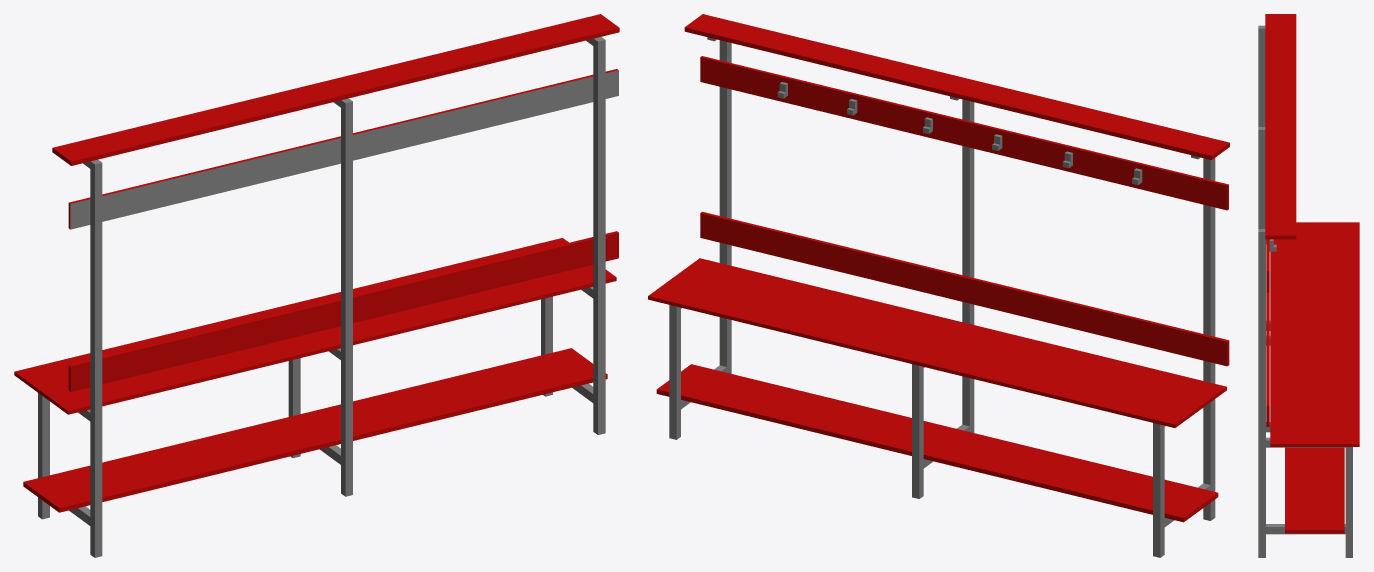
Rendered from banco_vestuario.fbx.
3 renders of one model, left to right at view 1: azimuth 30°, elevation 25°; view 2: azimuth 150°, elevation 25°; view 3: azimuth 270°, elevation 25°, orthographic. The views are drawn at different scales.
Parts seen in each view (by area): view 1: bench:Mesh; view 2: bench:Mesh; view 3: bench:Mesh.
Boxes of the visible parts, bbox=[...] form: bench:Mesh: bbox=[14, 14, 619, 557]; bench:Mesh: bbox=[648, 14, 1229, 557]; bench:Mesh: bbox=[1258, 14, 1359, 557].
Bounding box in the file's own units: 11.75 × 8.15 × 2.27.
